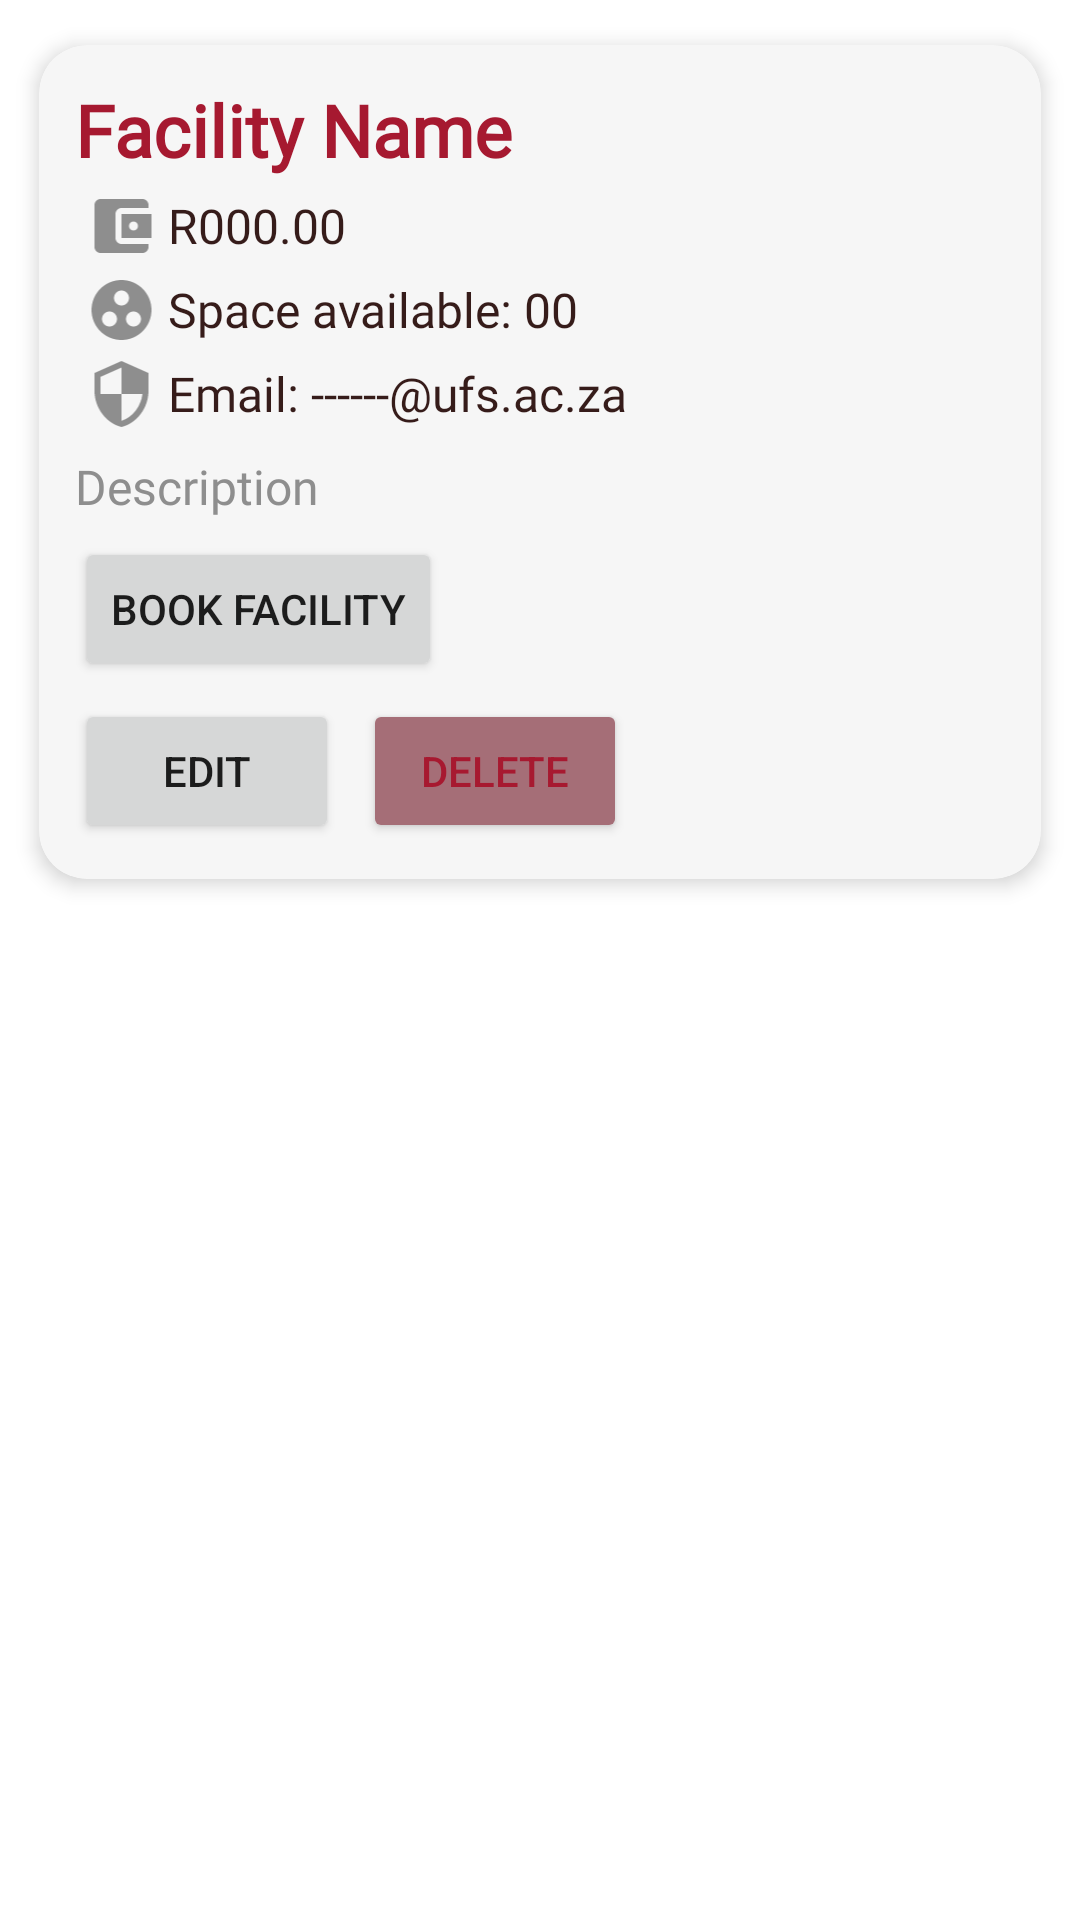

Where to tap for icons on this 1080 x 1920 app screen, as [x,y]:
balance: [123,226]
